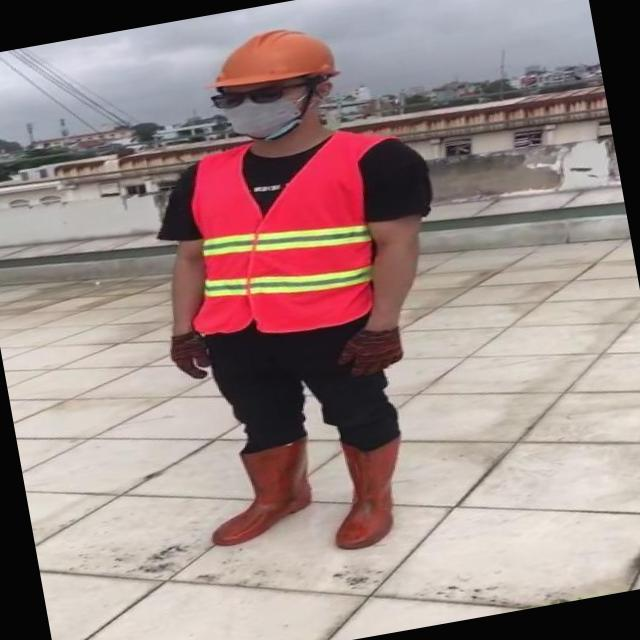boots: (195, 434, 322, 548), (319, 432, 423, 551)
helmet: (200, 13, 357, 100)
vest: (166, 125, 384, 348)
